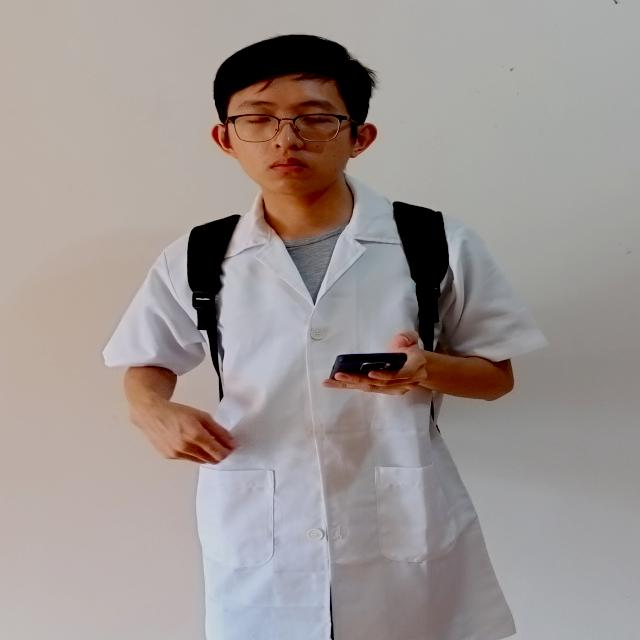person_with_labcoat: (104, 35, 545, 640)
